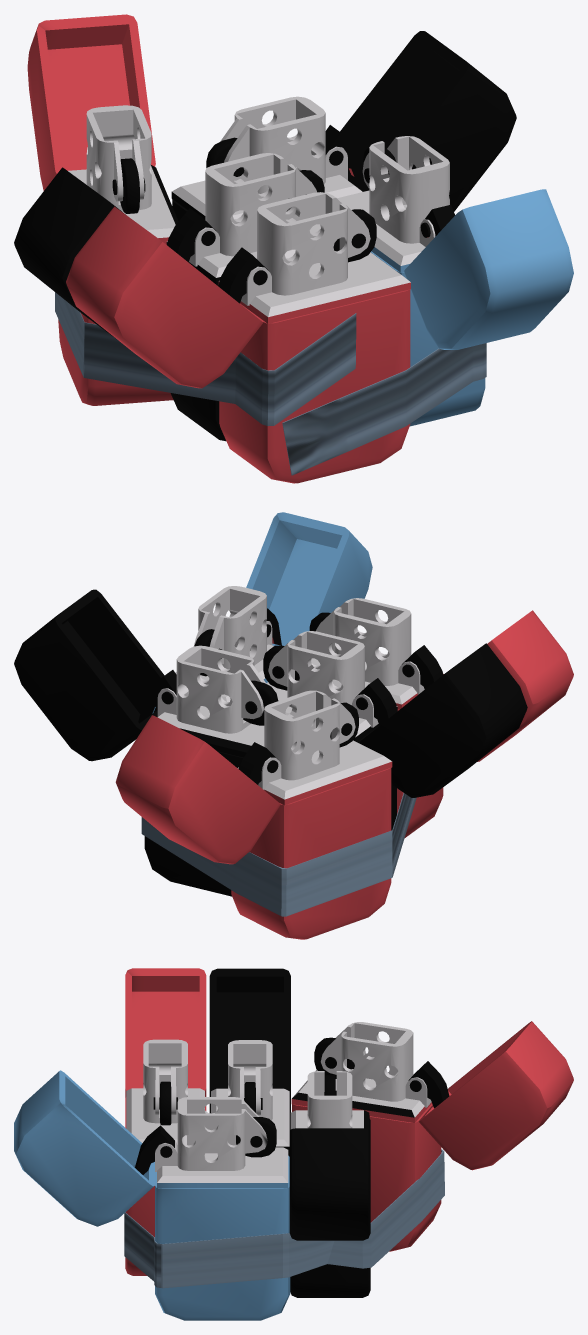
Rendered from FireExtension.fbx.
3 views of the same model, one above another, from view 1: azimuth 30°, elevation 25°; view 2: azimuth 150°, elevation 25°; view 3: azimuth 270°, elevation 25° (orthographic). The views are drawn at different scales.
Visible parts, largest first — view 1: Cube; view 2: Cube; view 3: Cube.
Part boxes in pixels (x1=…): Cube: x1=14, y1=14, x2=573, y2=483; Cube: x1=14, y1=512, x2=573, y2=939; Cube: x1=14, y1=968, x2=573, y2=1320.
Size of the model in its own units: 416 by 217 by 497.
